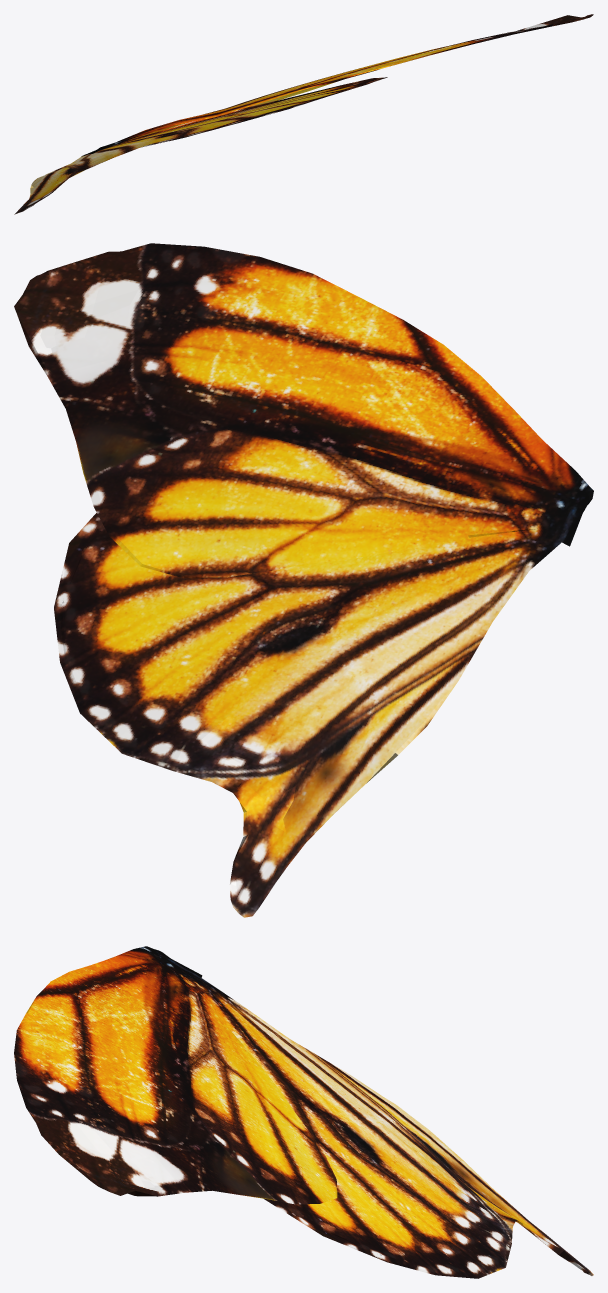
The model's file is butterfly_left_wing.obj.
The picture shows the model from 3 angles, top to bottom: view 1: azimuth 30°, elevation 25°; view 2: azimuth 150°, elevation 25°; view 3: azimuth 270°, elevation 25°; orthographic projection. The views are drawn at different scales.
Visible parts, largest first — view 1: 1.001, 2.001; view 2: 2.001, 1.001; view 3: 2.001, 1.001.
Boxes of the visible parts, box(x1,y1,x2,y2) form: 1.001: box(14, 77, 387, 214); 2.001: box(90, 14, 593, 153); 2.001: box(14, 243, 593, 578); 1.001: box(54, 512, 582, 917); 2.001: box(14, 946, 337, 1204); 1.001: box(172, 959, 593, 1278).
Size of the model in its own units: 85 by 50.25 by 74.22.
1 material, 1 textured.
